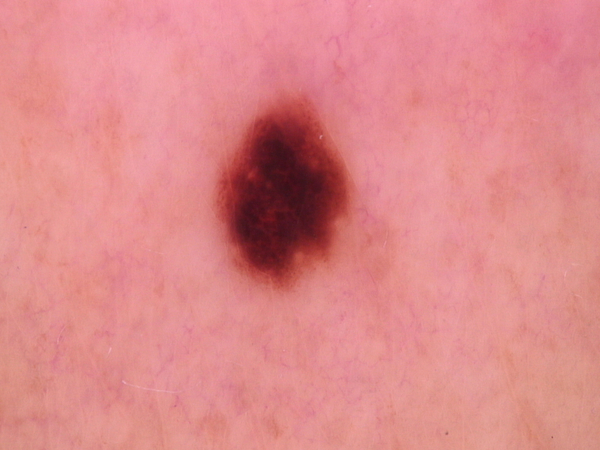Detected Lesion: (208, 95, 358, 294)
